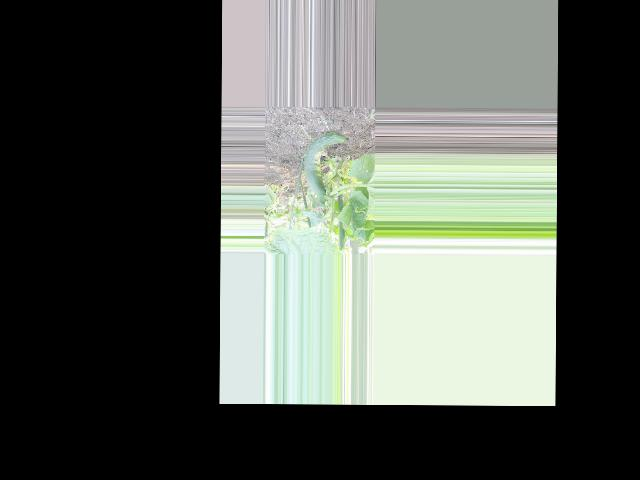cucumber: (303, 131, 345, 197)
